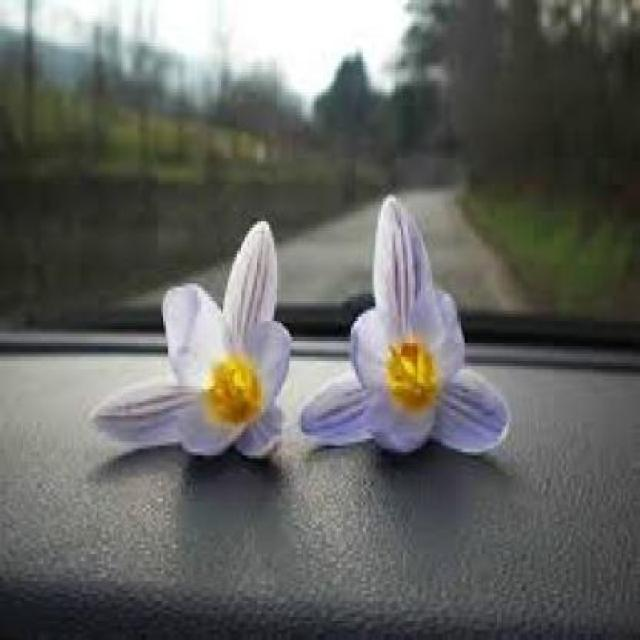saffron open: (300, 196, 509, 454), (94, 221, 291, 458)
